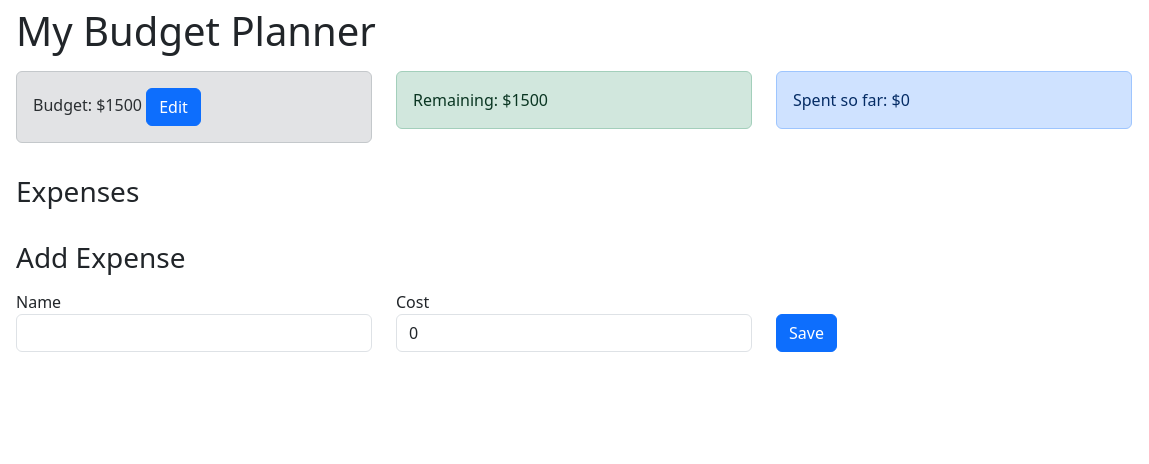
Budget Balance Verification
This screenshot has width=1149, height=464.
# Create $100 and $400 Expenses
In the field labelled "Name": (194, 333) x1=16 y1=314 x2=372 y2=352, type "Testing"
Replace the text in the field labelled "Cost" with "100": (574, 333) x1=396 y1=314 x2=752 y2=352
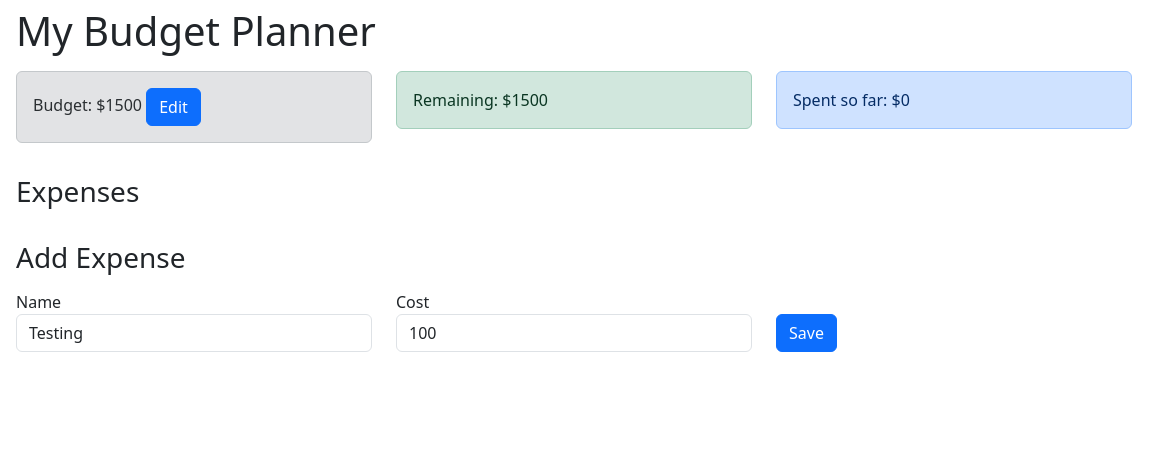
Click the button "Save": (806, 333) x1=776 y1=314 x2=837 y2=352
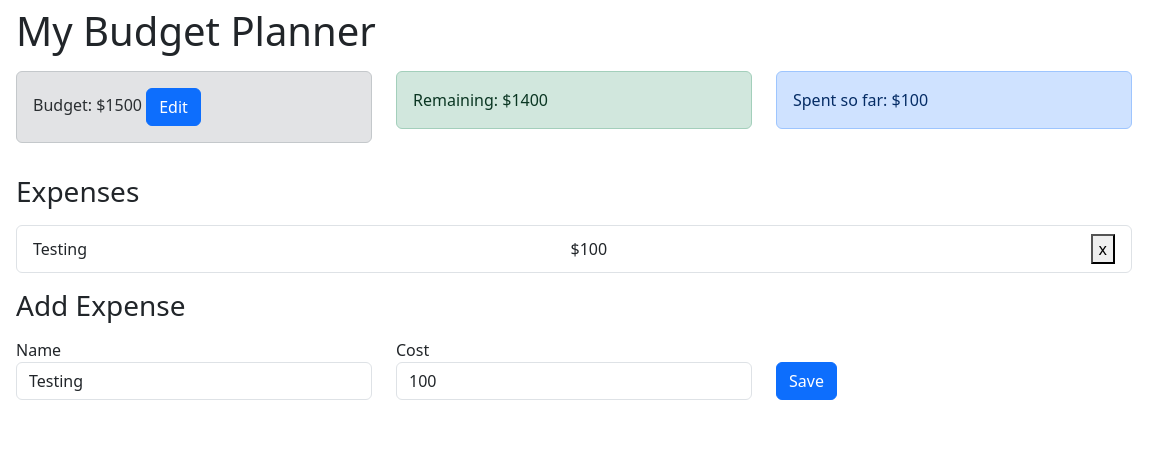
Replace the text in the field labelled "Name" with "Testing2": (194, 381) x1=16 y1=362 x2=372 y2=400
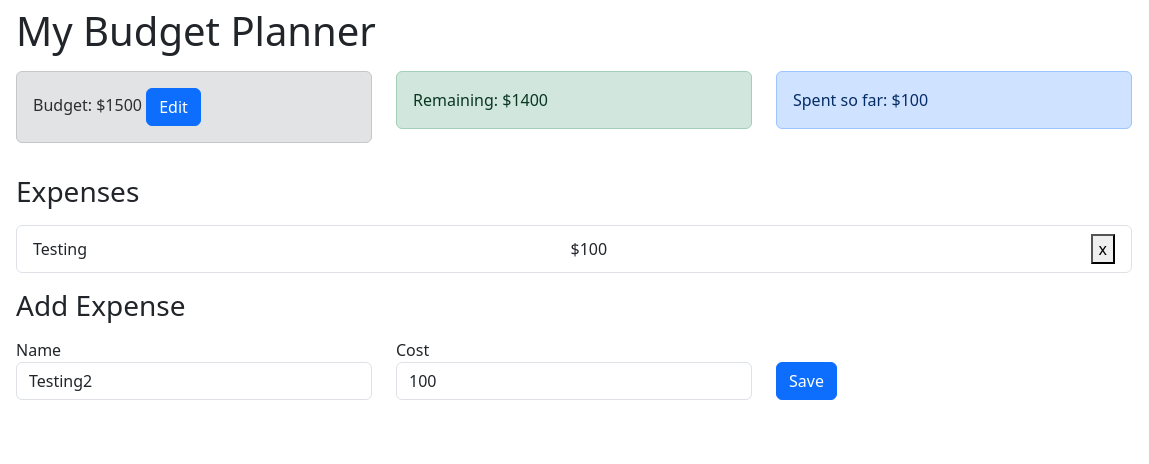
Replace the text in the field labelled "Cost" with "400": (574, 381) x1=396 y1=362 x2=752 y2=400
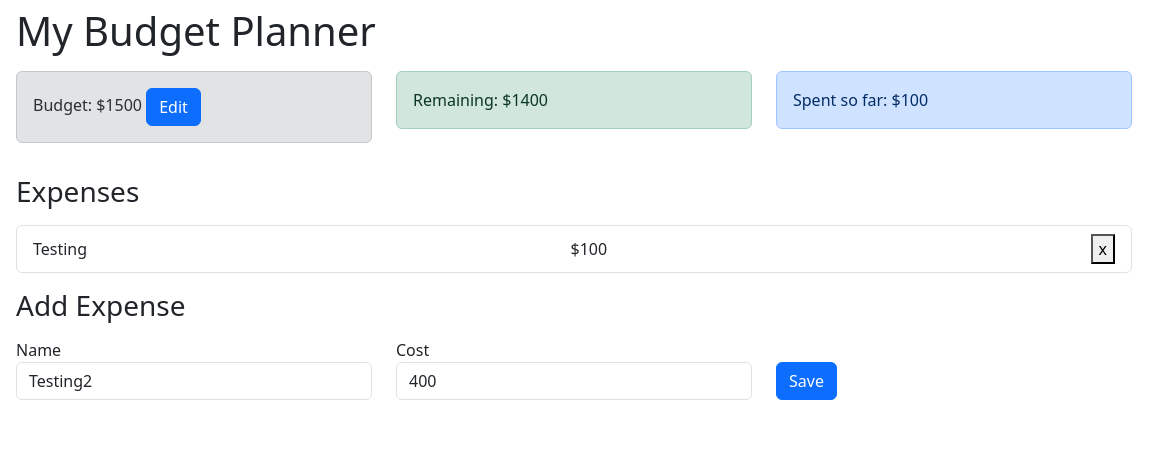
Click the button "Save": (806, 381) x1=776 y1=362 x2=837 y2=400
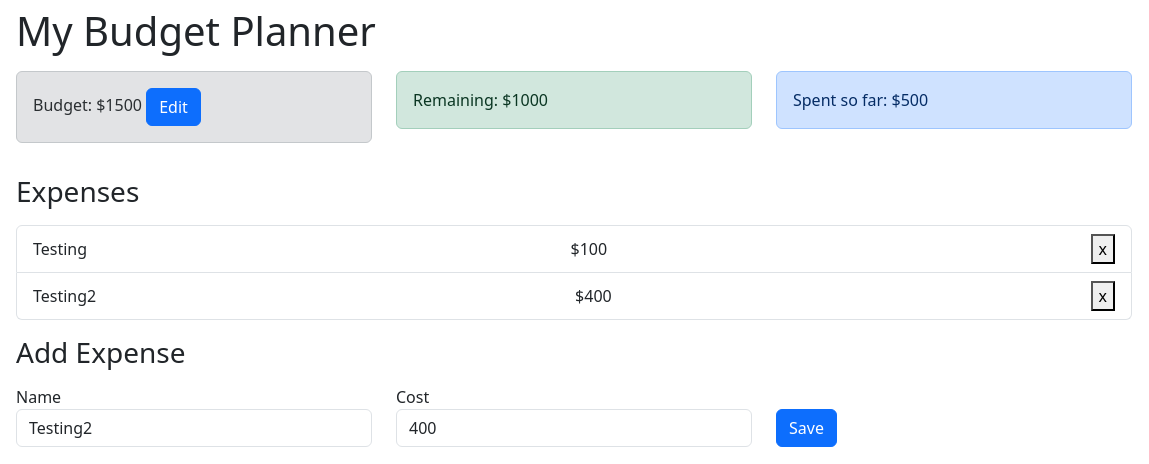
Expected: the text "Budget: $1500" is shown, x1=33 y1=94 x2=146 y2=116
Expected: the text "Remaining: $1000" is shown, x1=413 y1=89 x2=548 y2=111
Expected: the text "Spent so far: $500" is shown, x1=793 y1=89 x2=928 y2=111
# Note: Choose first Expense's delete button
Click the 1st button "x": (1103, 249) x1=1090 y1=234 x2=1115 y2=264
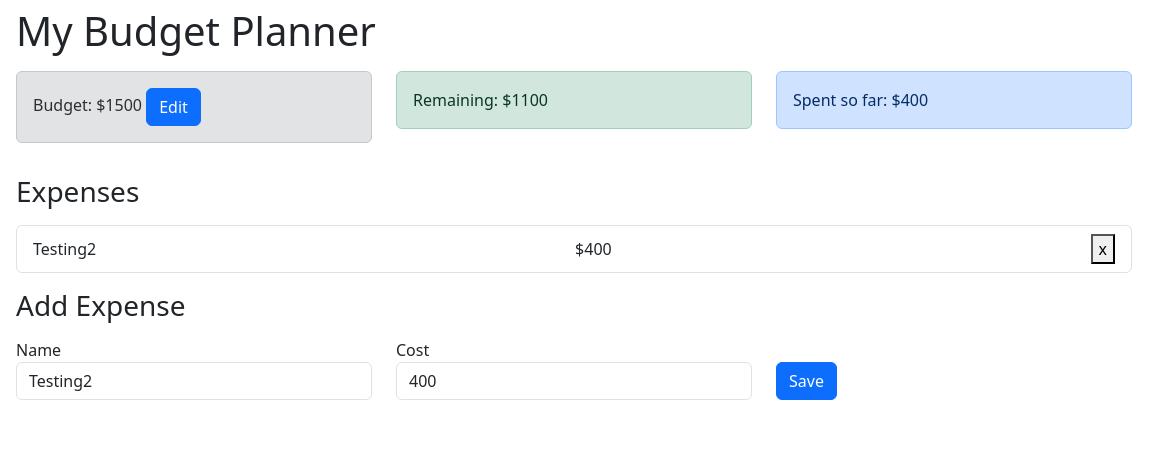
Expected: the text "Budget: $1500" is shown, x1=33 y1=94 x2=146 y2=116
Expected: the text "Remaining: $1100" is shown, x1=413 y1=89 x2=548 y2=111
Expected: the text "Spent so far: $400" is shown, x1=793 y1=89 x2=928 y2=111
